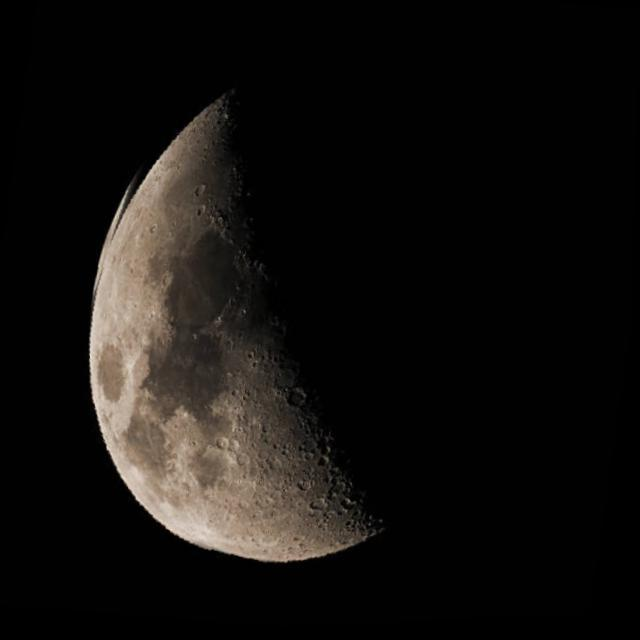moon: (35, 26, 558, 601)
